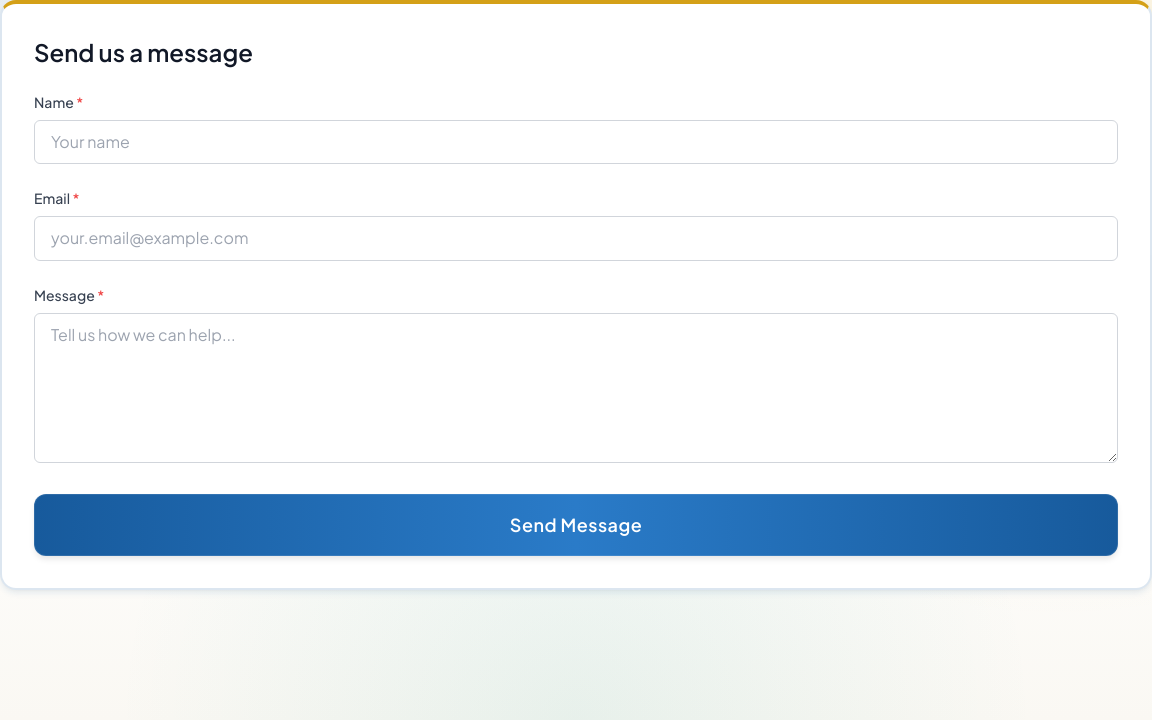
it: ContactForm Component › Form Validation › should display validation errors for invalid data
Click the button "Send Message" at (576, 525), box [34,494,1118,556]
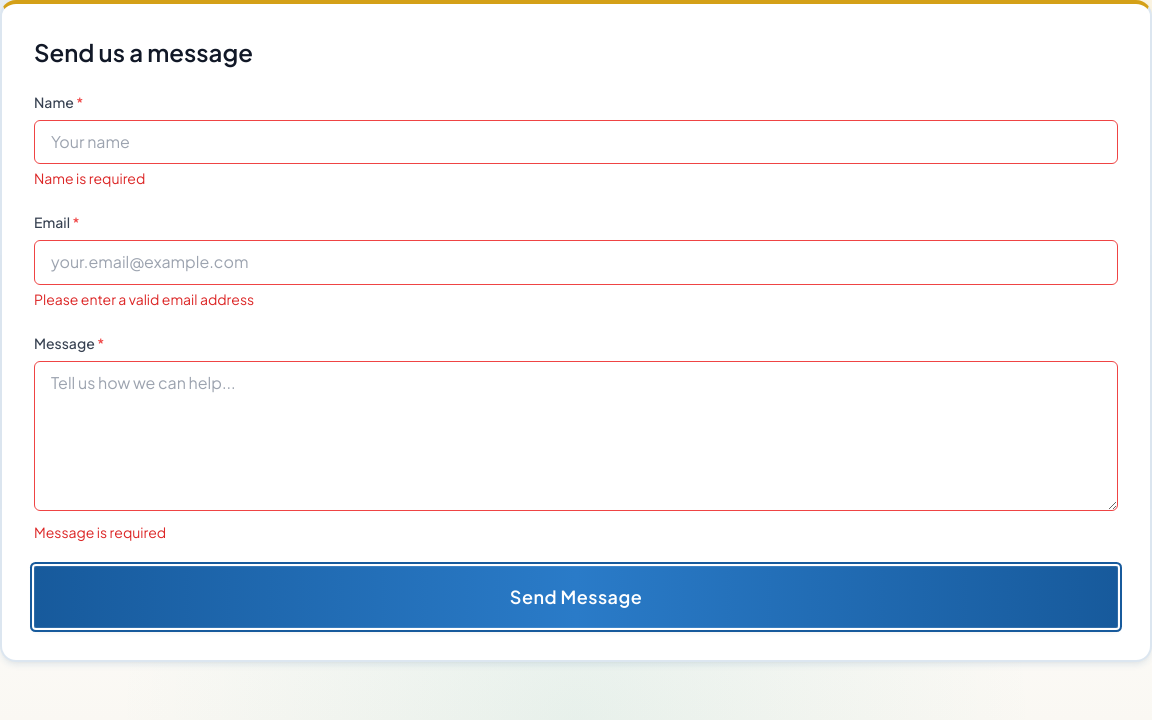
Expected: the text "Name is required" is shown, [34,169,145,187]
Expected: the text "Please enter a valid email address" is shown, [34,290,254,308]
Expected: the text "Message is required" is shown, [34,523,166,541]
